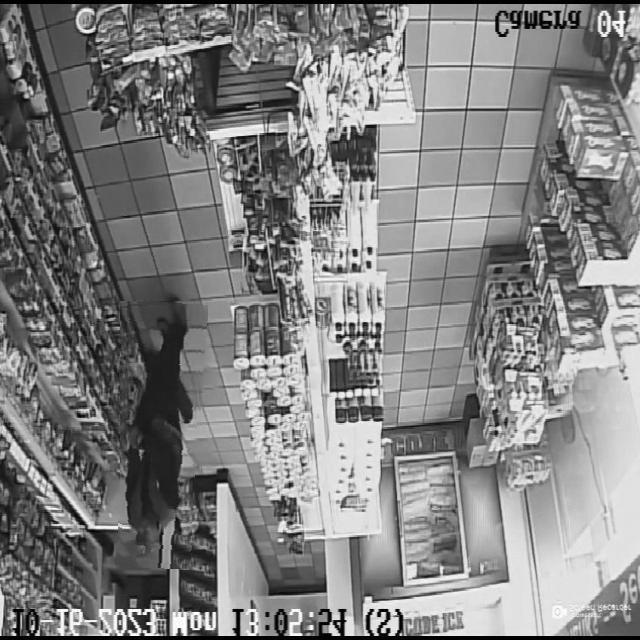Normal: (120, 301, 203, 569)
